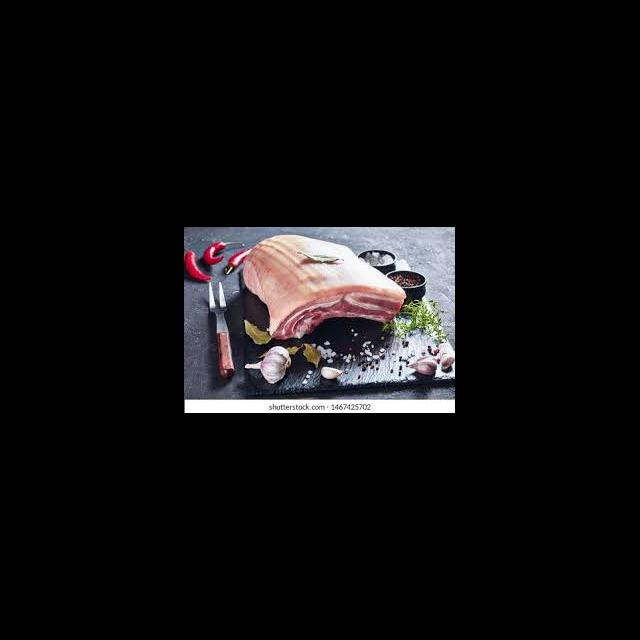chili_pepper: (202, 239, 227, 265), (185, 248, 201, 283)
pork: (269, 276, 398, 337)
